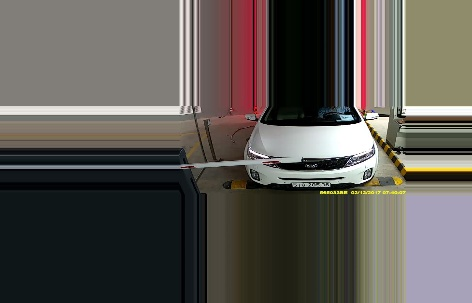plate: (291, 179, 332, 189)
